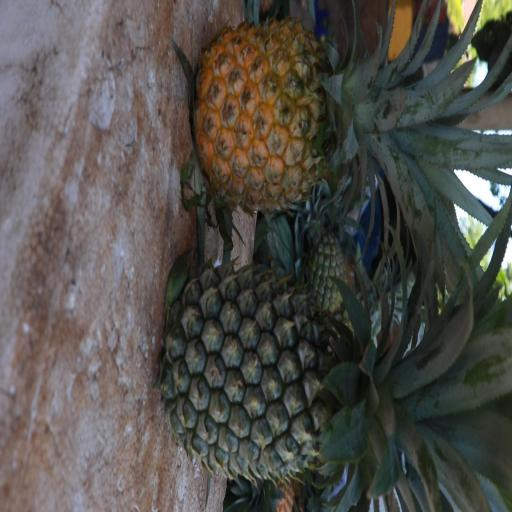Pineapple - v8 v1: (199, 31, 492, 217)
